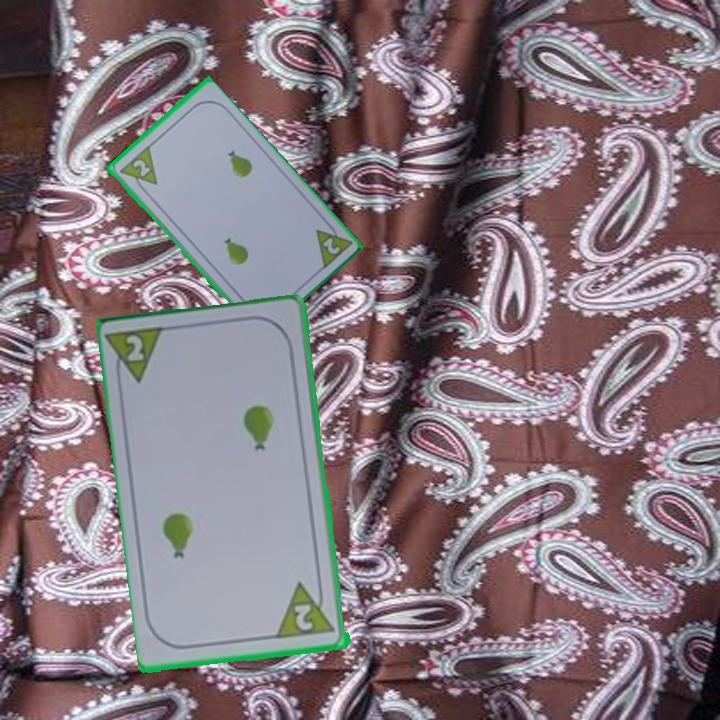2p: (311, 216, 354, 273), (291, 601, 317, 634), (123, 331, 148, 365), (128, 156, 153, 179)
